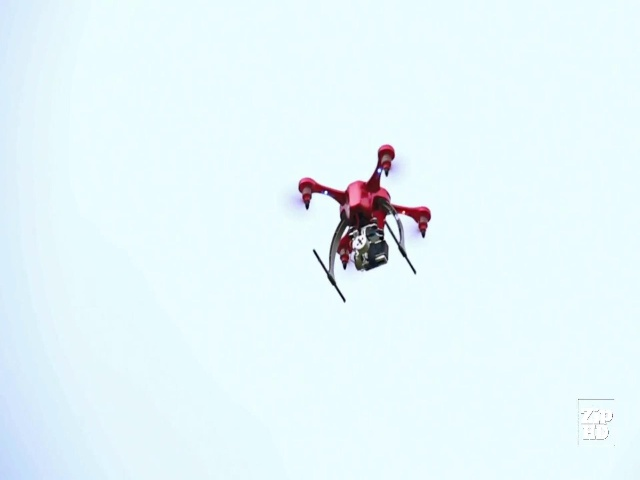drone: (288, 141, 436, 305)
